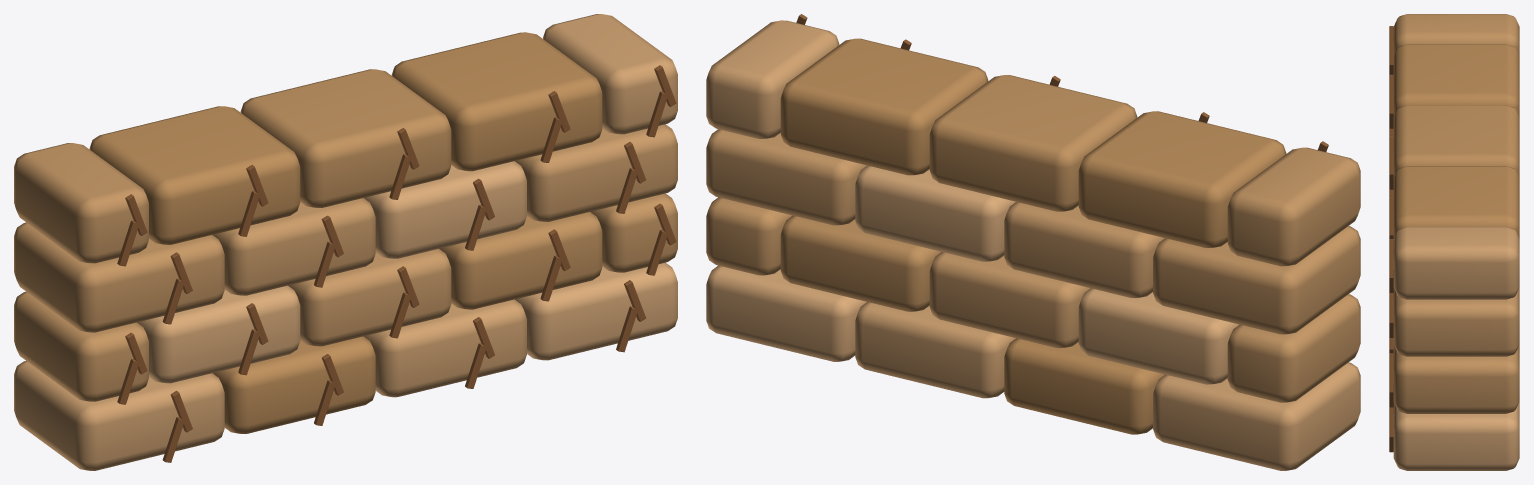
The model's file is NJD-08.glb.
3 views of the same model, side by side, from view 1: azimuth 30°, elevation 25°; view 2: azimuth 150°, elevation 25°; view 3: azimuth 270°, elevation 25° (orthographic). The views are drawn at different scales.
Visible parts, largest first — view 1: rounded adobe block.016, rounded adobe block.015, rounded adobe block.014, rounded adobe block, rounded adobe block.009, rounded adobe block.013, rounded adobe block.006, rounded adobe block.005, rounded adobe block.002, rounded adobe block.011, rounded adobe block.001, rounded adobe block.007 (+6 smaller); view 2: rounded adobe block.016, rounded adobe block.015, rounded adobe block.014, rounded adobe block, rounded adobe block.009, rounded adobe block.013, rounded adobe block.006, rounded adobe block.007, rounded adobe block.012, rounded adobe block.003, rounded adobe block.005, rounded adobe block.011 (+6 smaller); view 3: rounded adobe block.017, rounded adobe block.014, rounded adobe block.015, rounded adobe block.016, rounded adobe block.012, rounded adobe block.008, rounded adobe block.003, rounded adobe block.013, open zigzag crack.017, open zigzag crack.027, open zigzag crack.031, open zigzag crack.033 (+3 smaller).
Part boxes in pixels (box(x1,y1,x2,y2)): rounded adobe block.016: box(391, 32, 602, 171); rounded adobe block.015: box(240, 69, 451, 207); rounded adobe block.014: box(89, 106, 300, 244); rounded adobe block: box(14, 361, 224, 470); rounded adobe block.009: box(14, 222, 224, 332); rounded adobe block.013: box(14, 143, 148, 263); rounded adobe block.006: box(288, 249, 451, 346); rounded adobe block.005: box(137, 285, 300, 383); rounded adobe block.002: box(364, 299, 526, 397); rounded adobe block.011: box(364, 161, 526, 258); rounded adobe block.001: box(212, 336, 375, 433); rounded adobe block.007: box(439, 212, 602, 309); rounded adobe block.016: box(780, 38, 988, 175); rounded adobe block.015: box(929, 75, 1137, 211); rounded adobe block.014: box(1078, 111, 1286, 248); rounded adobe block: box(1153, 362, 1360, 470); rounded adobe block.009: box(1153, 226, 1360, 334); rounded adobe block.013: box(1227, 147, 1360, 266); rounded adobe block.006: box(929, 252, 1090, 348); rounded adobe block.007: box(780, 215, 941, 311); rounded adobe block.012: box(706, 129, 866, 225); rounded adobe block.003: box(706, 265, 866, 361); rounded adobe block.005: box(1078, 288, 1239, 384); rounded adobe block.011: box(855, 165, 1015, 261); rounded adobe block.017: box(1393, 227, 1519, 299); rounded adobe block.014: box(1393, 44, 1519, 117); rounded adobe block.015: box(1393, 105, 1519, 177); rounded adobe block.016: box(1393, 166, 1519, 238); rounded adobe block.012: box(1393, 287, 1519, 356); rounded adobe block.008: box(1393, 349, 1519, 413); rounded adobe block.003: box(1393, 402, 1519, 470); rounded adobe block.013: box(1393, 14, 1519, 56); open zigzag crack.017: box(1389, 353, 1393, 392); open zigzag crack.027: box(1389, 26, 1393, 65); open zigzag crack.031: box(1389, 135, 1393, 174); open zigzag crack.033: box(1389, 196, 1393, 235).
Bounding box in the file's own units: 1.91 × 0.8383 × 0.4345.
